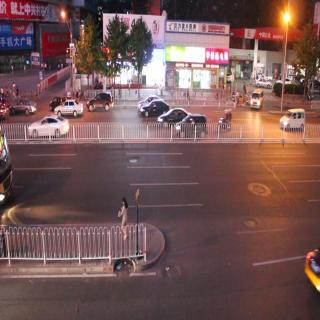Car: (137, 92, 170, 117), (174, 112, 208, 136), (28, 117, 68, 137), (281, 107, 305, 132), (55, 97, 83, 117), (86, 93, 114, 113), (10, 100, 36, 118), (249, 88, 264, 111), (256, 76, 272, 90)
